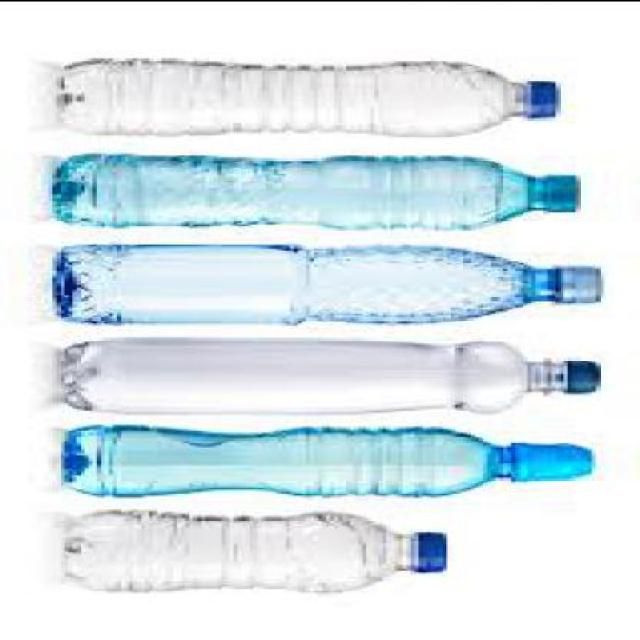PLASTIC: (57, 246, 608, 326), (61, 338, 604, 416), (61, 153, 584, 233), (56, 61, 559, 138), (65, 427, 600, 496), (64, 510, 450, 593), (507, 444, 599, 484), (559, 267, 604, 304), (418, 533, 456, 575), (548, 176, 588, 215), (564, 358, 604, 396), (527, 81, 564, 119)
